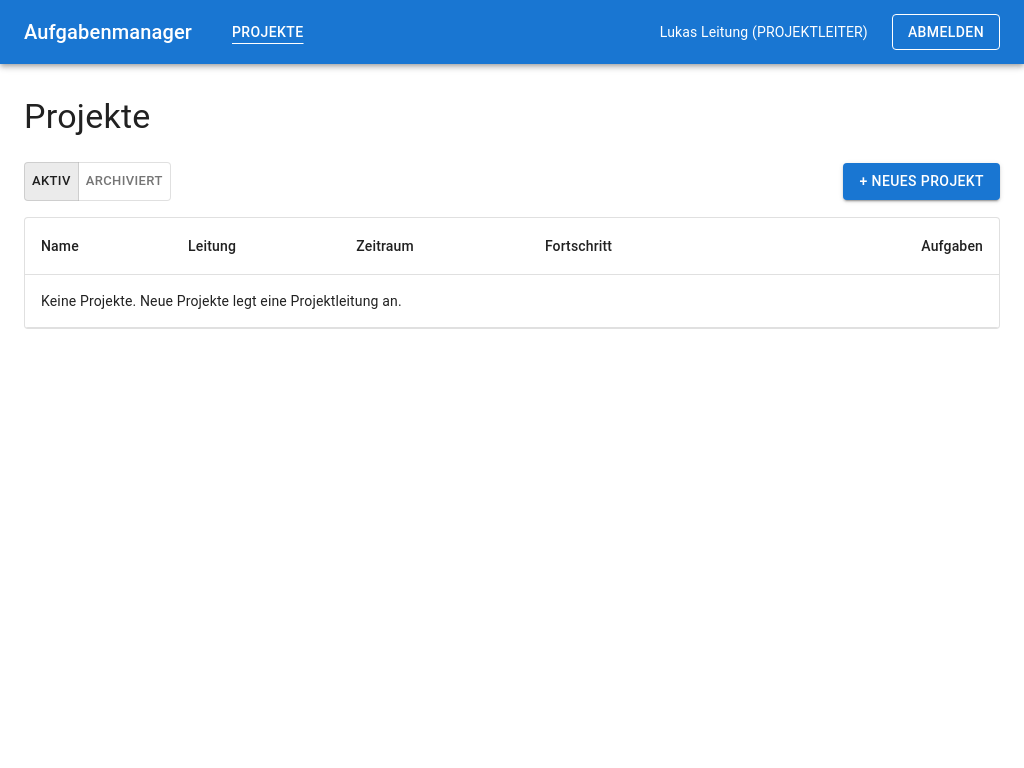
Test case: Projektübersicht (wf_02) › Projektleitung legt ein Projekt an und landet im Projektdetail
The image size is (1024, 768).
Click the button "+ Neues Projekt". click: (922, 181)
box: left=844, top=163, right=1000, bottom=200
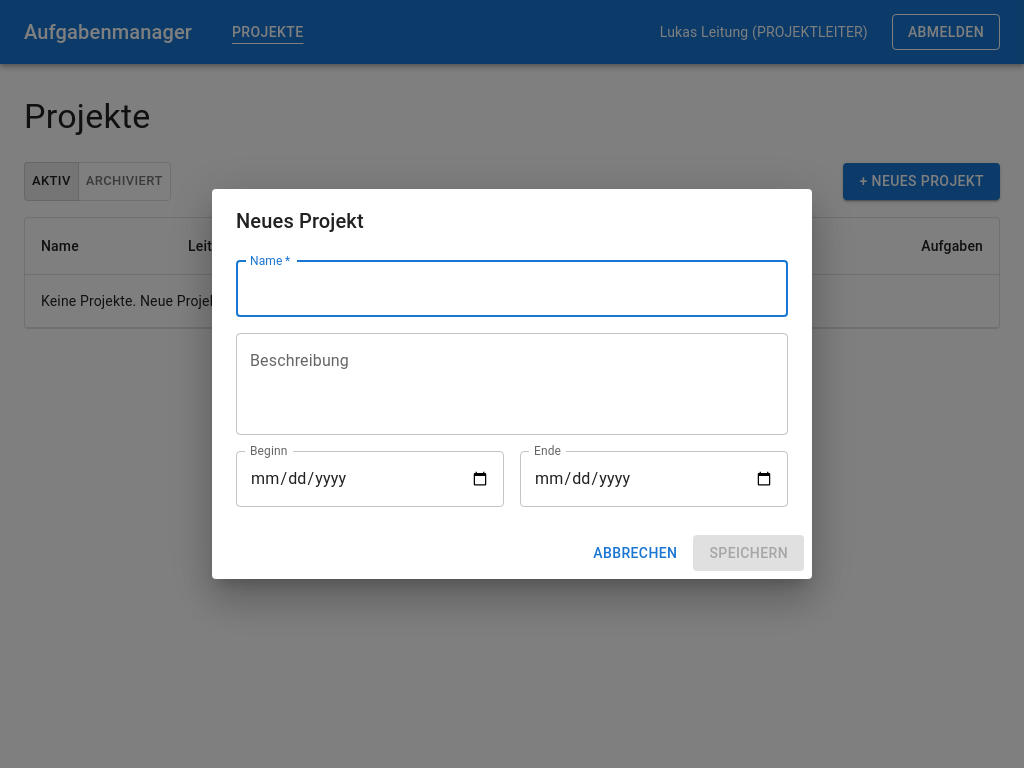
Type "Schulung Datenschutz" into the field labelled "Name *". click: (512, 289)
box: left=236, top=261, right=788, bottom=317
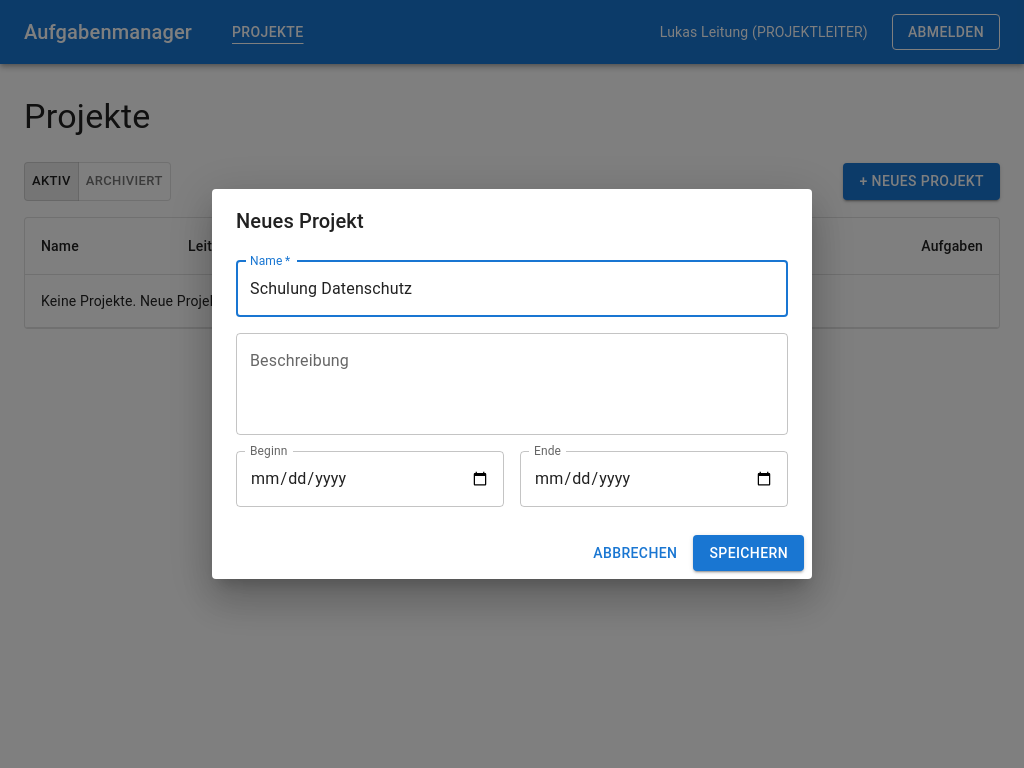
Click the button "Speichern". click: (749, 553)
box: left=693, top=535, right=804, bottom=571
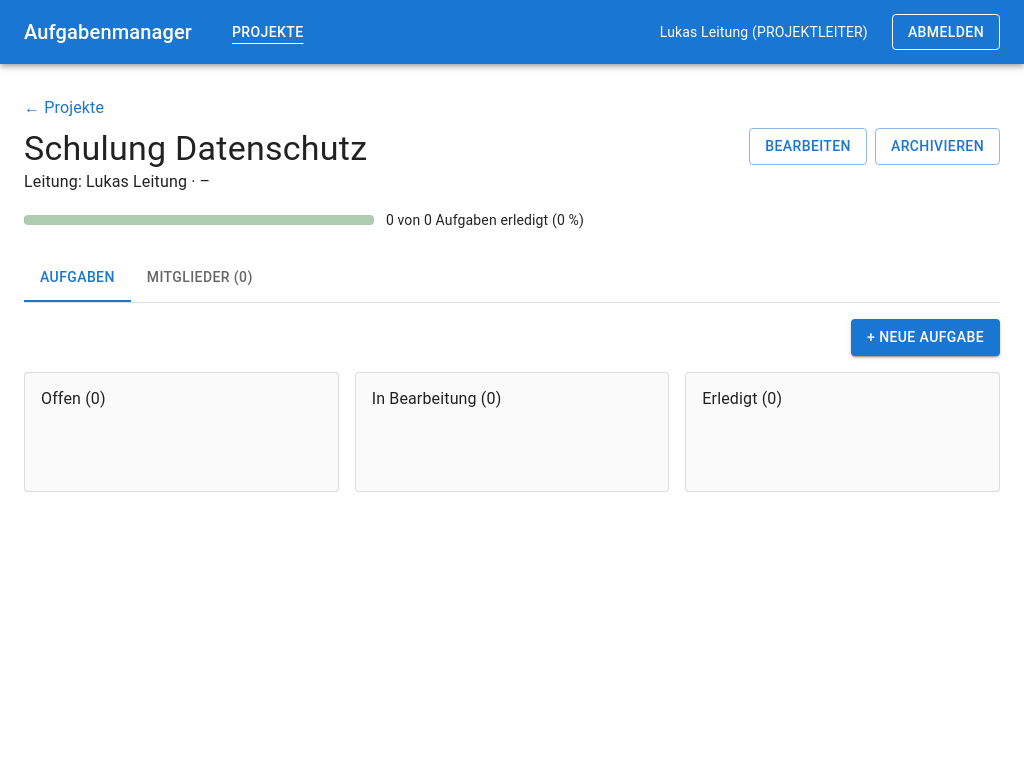
Expected: the heading "Schulung Datenschutz" is shown, left=24, top=128, right=367, bottom=170
